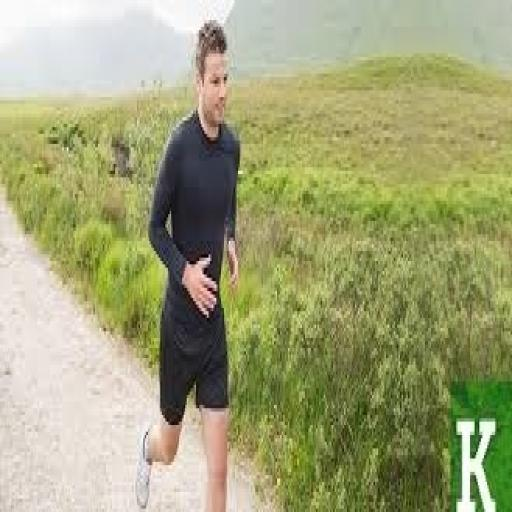running: (132, 16, 243, 508)
